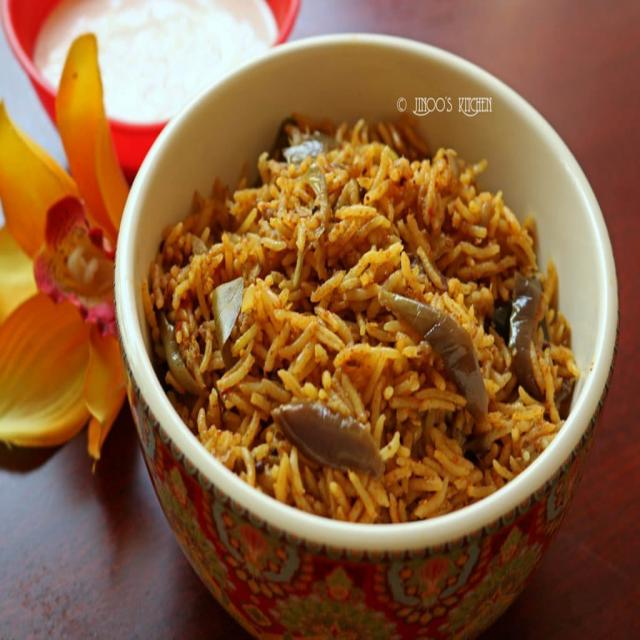vangi bath: (136, 94, 586, 546)
